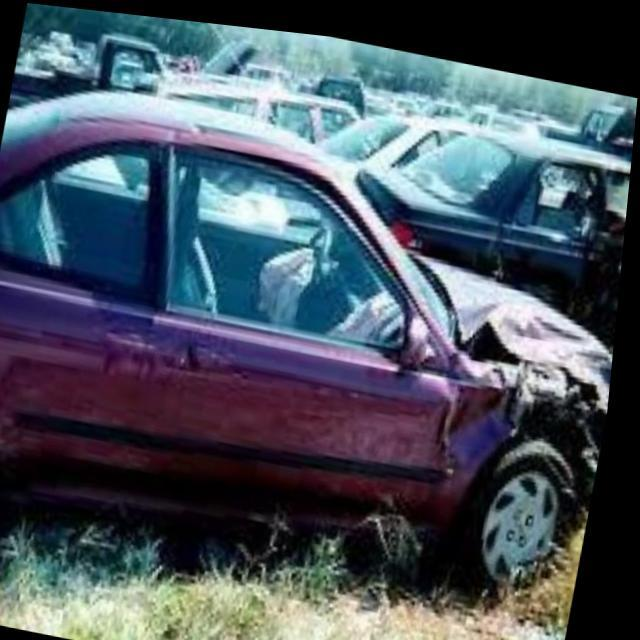crash: (425, 237, 618, 497)
